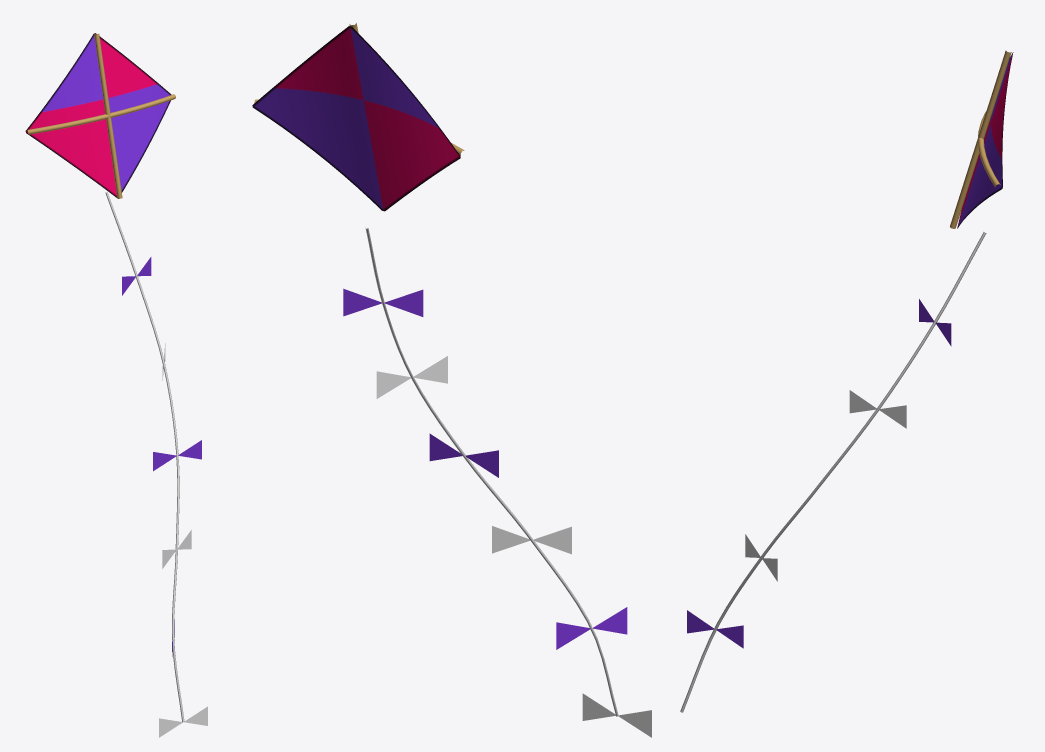
File: capucheta-4.glb
The picture shows the model from 3 angles, left to right: view 1: azimuth 30°, elevation 25°; view 2: azimuth 150°, elevation 25°; view 3: azimuth 270°, elevation 25°; orthographic projection. The views are drawn at different scales.
Parts seen in each view (by area): view 1: capucheta-4; view 2: capucheta-4; view 3: capucheta-4.
Part boxes in pixels (x1,y1,x2,y2): capucheta-4: (25,33,207,737); capucheta-4: (252,23,651,737); capucheta-4: (680,50,1013,712).
Size of the model in its own units: 0.7882 by 2.98 by 1.35.
Materials: 5 (1 with a texture image).
